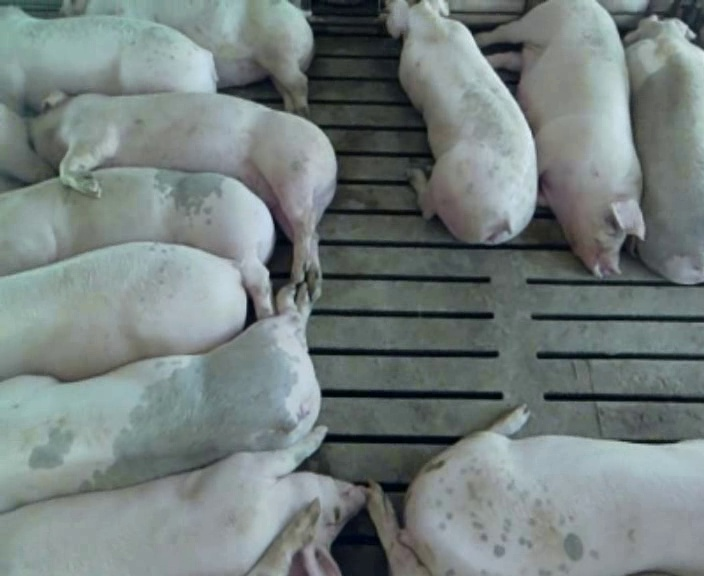pig: (30, 90, 336, 296), (0, 426, 364, 575), (405, 406, 703, 574), (476, 2, 644, 277), (387, 3, 536, 244), (0, 242, 246, 379), (59, 1, 312, 115), (624, 16, 703, 283)
